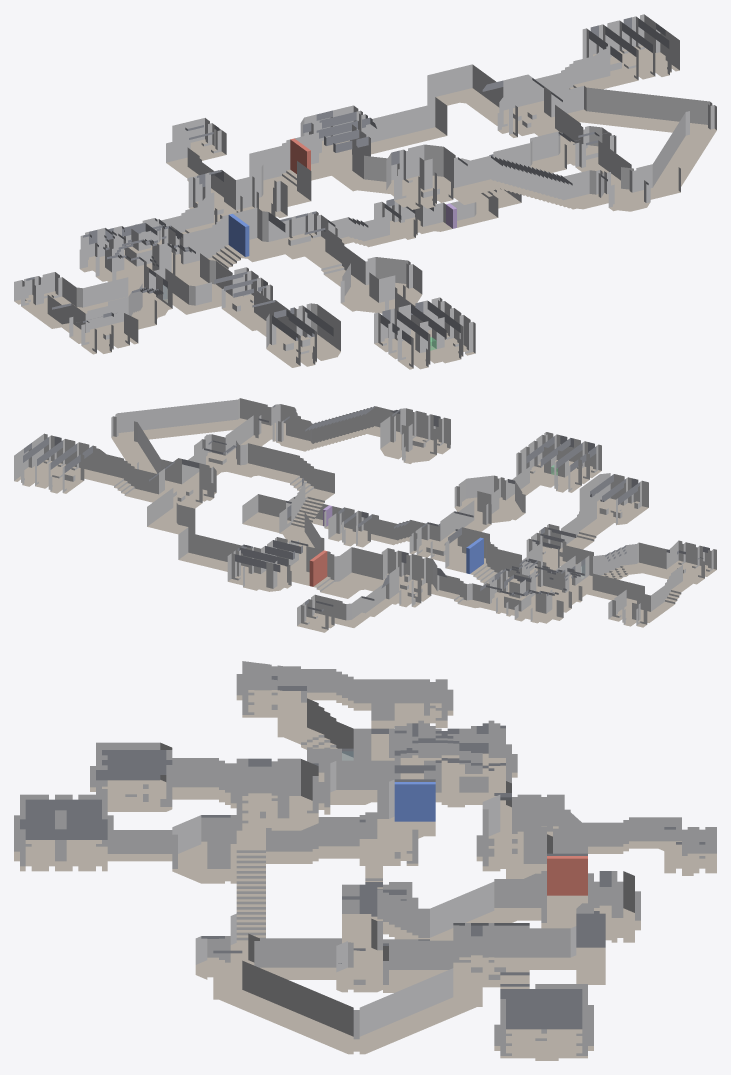
The model's file is facility.glb.
3 renders of one model, top to bottom at view 1: azimuth 30°, elevation 25°; view 2: azimuth 150°, elevation 25°; view 3: azimuth 270°, elevation 25°, orthographic. The views are drawn at different scales.
Parts seen in each view (by area): view 1: corridor_19.structure, corridor_18.structure, corridor_0.structure, room_8_exit.structure, room_10_key.structure, corridor_5.structure, corridor_2.structure, room_0_start.structure, room_12_key.structure, room_3_hub.structure, corridor_3.structure, corridor_17.structure (+33 smaller); view 2: corridor_19.structure, corridor_2.structure, corridor_18.structure, room_10_key.structure, corridor_0.structure, room_8_exit.structure, corridor_3.structure, corridor_13.structure, room_3_hub.structure, room_12_key.structure, room_0_start.structure, corridor_5.structure (+38 smaller); view 3: corridor_19.structure, corridor_2.structure, room_8_exit.structure, room_10_key.structure, room_5_arena.structure, room_12_key.structure, room_0_start.structure, corridor_18.structure, room_9_supply.structure, corridor_0.structure, corridor_6.structure, room_4_combat.structure (+32 smaller).
Part boxes in pixels (left/top/right/bottom): corridor_19.structure: left=551, top=86, right=716, bottom=199; corridor_18.structure: left=365, top=64, right=503, bottom=152; corridor_0.structure: left=468, top=155, right=607, bottom=209; room_8_exit.structure: left=374, top=297, right=475, bottom=369; room_10_key.structure: left=582, top=14, right=679, bottom=85; corridor_5.structure: left=187, top=207, right=285, bottom=272; corridor_2.structure: left=341, top=131, right=570, bottom=204; room_0_start.structure: left=386, top=144, right=467, bottom=209; room_12_key.structure: left=266, top=303, right=340, bottom=367; room_3_hub.structure: left=300, top=105, right=372, bottom=177; corridor_3.structure: left=249, top=133, right=331, bottom=206; corridor_17.structure: left=76, top=268, right=218, bottom=314; corridor_19.structure: left=111, top=398, right=267, bottom=489; corridor_2.structure: left=227, top=443, right=334, bottom=563; corridor_18.structure: left=147, top=488, right=247, bottom=571; room_10_key.structure: left=14, top=433, right=96, bottom=493; corridor_0.structure: left=276, top=406, right=400, bottom=451; room_8_exit.structure: left=516, top=432, right=601, bottom=492; corridor_3.structure: left=292, top=546, right=379, bottom=598; corridor_13.structure: left=567, top=542, right=666, bottom=595; room_3_hub.structure: left=227, top=537, right=308, bottom=591; room_12_key.structure: left=579, top=473, right=648, bottom=525; room_0_start.structure: left=380, top=408, right=450, bottom=462; corridor_5.structure: left=445, top=527, right=518, bottom=586; corridor_19.structure: left=213, top=950, right=482, bottom=1054; corridor_2.structure: left=342, top=879, right=523, bottom=967; room_8_exit.structure: left=20, top=794, right=107, bottom=871; room_10_key.structure: left=500, top=984, right=587, bottom=1058; room_5_arena.structure: left=394, top=720, right=505, bottom=804; room_12_key.structure: left=96, top=742, right=172, bottom=811; room_0_start.structure: left=236, top=758, right=318, bottom=830; corridor_18.structure: left=529, top=913, right=605, bottom=984; room_9_supply.structure: left=453, top=925, right=529, bottom=987; corridor_0.structure: left=230, top=801, right=265, bottom=959; corridor_6.structure: left=266, top=817, right=359, bottom=863; room_4_combat.structure: left=482, top=794, right=564, bottom=871.
Size of the model in its own units: 169 by 25 by 120.
